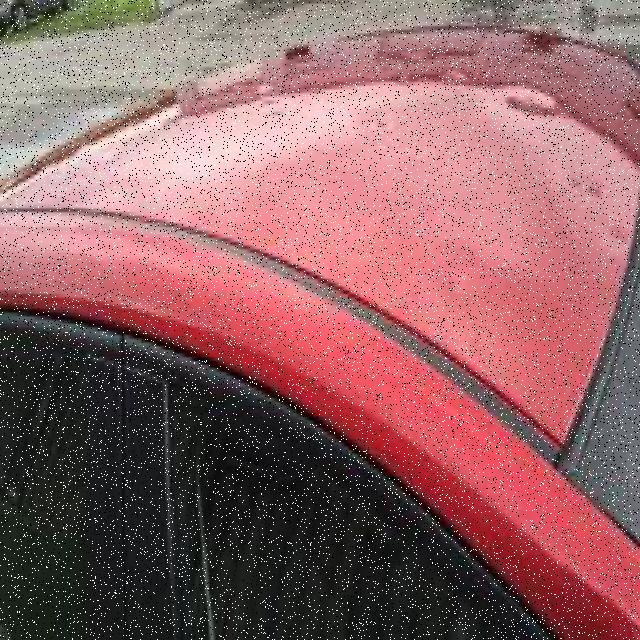roof-dent: (335, 26, 500, 450), (501, 33, 634, 453)
